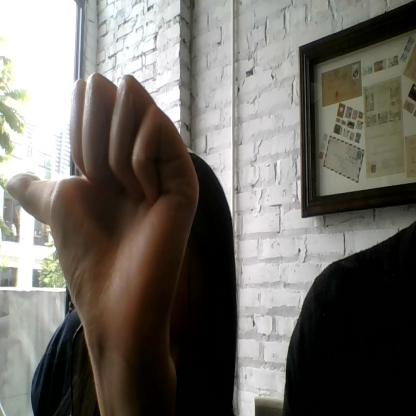right: (7, 70, 199, 348)
